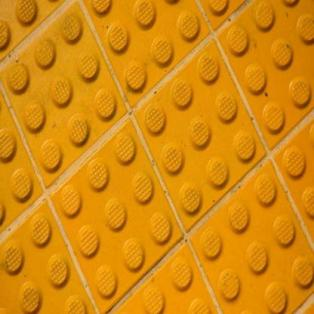Podoctatil: (2, 1, 313, 313)
